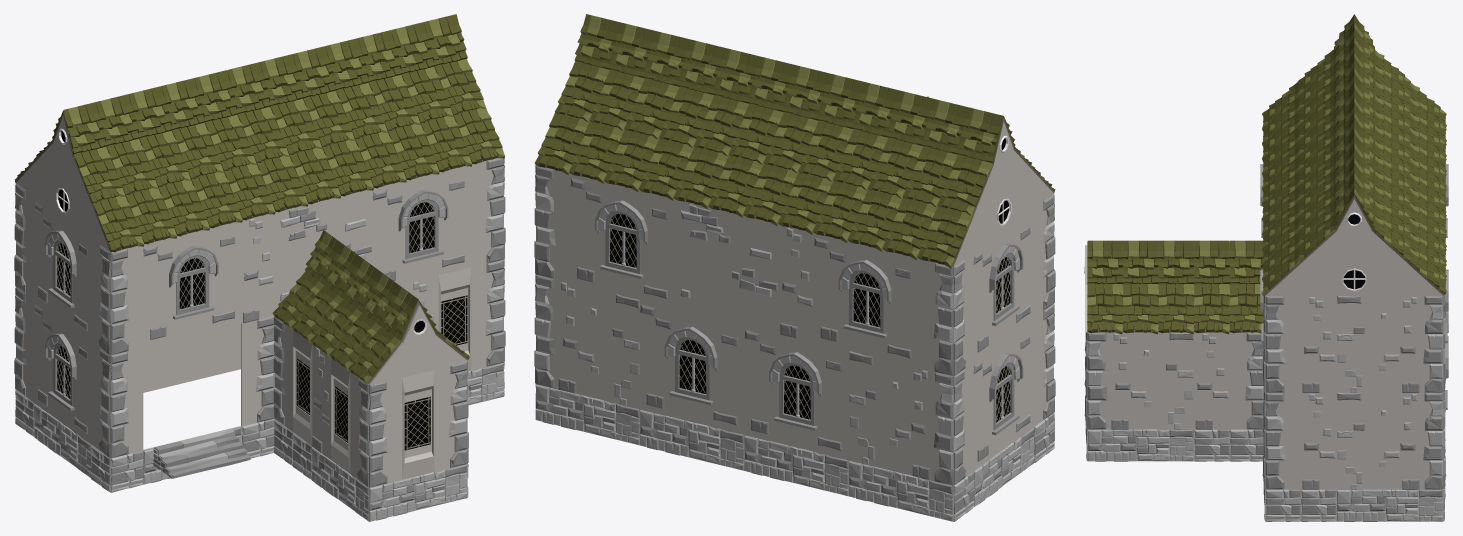
Rendered from HOUSE_20_PARTS.fbx.
3 renders of one model, left to right at view 1: azimuth 30°, elevation 25°; view 2: azimuth 150°, elevation 25°; view 3: azimuth 270°, elevation 25°, orthographic. The views are drawn at different scales.
Parts seen in each view (by area): view 1: WINDOW_03_31, WINDOW_03_36, WALL_01_3, WINDOW_03_29, WINDOW_03_30, WALL_05_10, WALL_05_13, WALL_06_5, WALL_07_7, WALL_07_15, FOUNDATION_03_12, WALL_07_14 (+82 smaller); view 2: WINDOW_03_33, WALL_04_3, WINDOW_03_35, WALL_08_1, WINDOW_03_34, WALL_01_2, WINDOW_03_32, WINDOW_03_30, WINDOW_03_29, WALL_06_15, WALL_07_13, FOUNDATION_03_5 (+51 smaller); view 3: WALL_08_3, WALL_08_2, WALL_04_1, FOUNDATION_03_11, FOUNDATION_03_9, WALL_06_14, WALL_05_17, WALL_05_16, WALL_06_8, WALL_06_13, WALL_07_17, ROOF_BASE_12 (+72 smaller).
Boxes of the visible parts, bbox=[...] form: WINDOW_03_31: bbox=[143, 222, 241, 347]; WINDOW_03_36: bbox=[373, 166, 471, 284]; WALL_01_3: bbox=[274, 190, 372, 310]; WINDOW_03_29: bbox=[34, 300, 91, 444]; WINDOW_03_30: bbox=[34, 197, 91, 341]; WALL_05_10: bbox=[110, 347, 143, 458]; WALL_05_13: bbox=[110, 246, 143, 355]; WALL_06_5: bbox=[241, 214, 274, 323]; WALL_07_7: bbox=[434, 362, 468, 471]; WALL_07_15: bbox=[471, 259, 504, 370]; FOUNDATION_03_12: bbox=[369, 464, 467, 521]; WALL_07_14: bbox=[471, 158, 504, 267]; WINDOW_03_33: bbox=[744, 325, 849, 459]; WALL_04_3: bbox=[535, 274, 640, 408]; WINDOW_03_35: bbox=[570, 174, 675, 308]; WALL_08_1: bbox=[849, 351, 953, 485]; WINDOW_03_34: bbox=[640, 300, 744, 434]; WALL_01_2: bbox=[675, 199, 779, 333]; WINDOW_03_32: bbox=[814, 233, 918, 367]; WINDOW_03_30: bbox=[973, 208, 1033, 361]; WINDOW_03_29: bbox=[973, 318, 1033, 470]; WALL_06_15: bbox=[779, 225, 814, 341]; WALL_07_13: bbox=[918, 259, 953, 375]; FOUNDATION_03_5: bbox=[744, 434, 849, 496]; WALL_08_3: bbox=[1336, 295, 1443, 392]; WALL_08_2: bbox=[1336, 392, 1443, 489]; WALL_04_1: bbox=[1087, 332, 1194, 429]; FOUNDATION_03_11: bbox=[1087, 429, 1194, 461]; FOUNDATION_03_9: bbox=[1336, 489, 1443, 521]; WALL_06_14: bbox=[1301, 295, 1336, 392]; WALL_05_17: bbox=[1265, 295, 1300, 392]; WALL_05_16: bbox=[1265, 392, 1300, 489]; WALL_06_8: bbox=[1194, 332, 1229, 429]; WALL_06_13: bbox=[1301, 392, 1336, 489]; WALL_07_17: bbox=[1230, 332, 1263, 429]; ROOF_BASE_12: bbox=[1158, 283, 1194, 334].
Bounding box in the file's own units: 1223 × 1014 × 1023.
